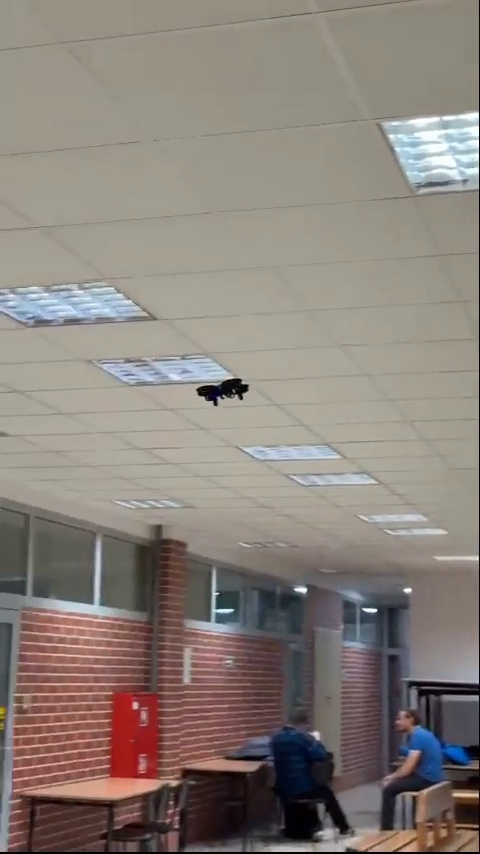drone: (200, 378, 252, 399)
no vest: (267, 708, 342, 810), (375, 704, 443, 803)
